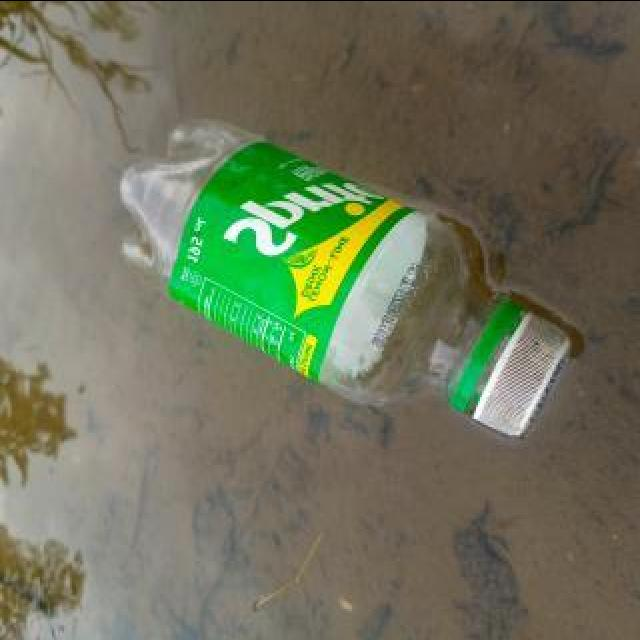Bottle: (114, 109, 576, 447)
